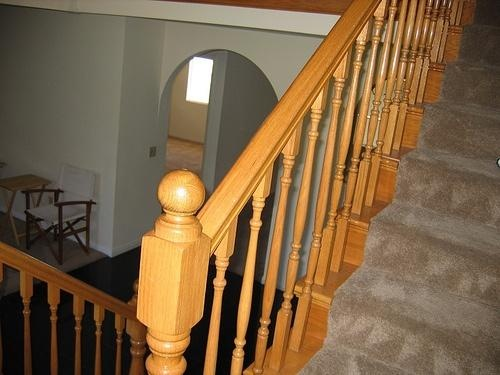chair: (24, 163, 97, 265)
